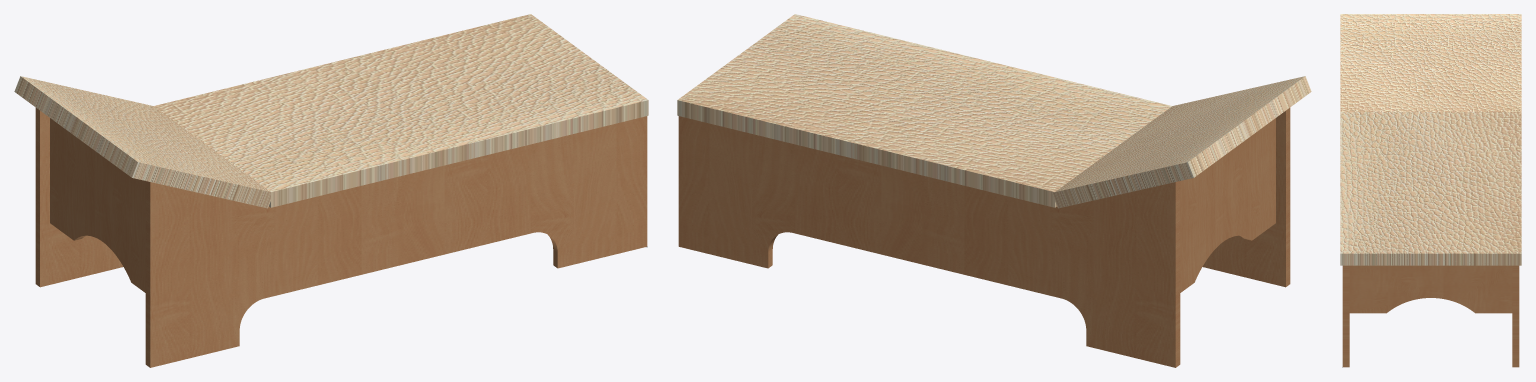
The model's file is banketka_ot_nabora_ajbolit_2.glb.
3 renders of one model, left to right at view 1: azimuth 30°, elevation 25°; view 2: azimuth 150°, elevation 25°; view 3: azimuth 270°, elevation 25°, orthographic. The views are drawn at different scales.
Visible parts, largest first — view 1: Shape_IndexedFaceSet.004, Shape_IndexedFaceSet.001_NON, Shape_IndexedFaceSet_NON, Shape_IndexedFaceSet.002, Shape_IndexedFaceSet.005; view 2: Shape_IndexedFaceSet.005, Shape_IndexedFaceSet.001_NON, Shape_IndexedFaceSet_NON, Shape_IndexedFaceSet.002, Shape_IndexedFaceSet.004; view 3: Shape_IndexedFaceSet.001_NON, Shape_IndexedFaceSet_NON, Shape_IndexedFaceSet.003, Shape_IndexedFaceSet.004, Shape_IndexedFaceSet.005.
Boxes of the visible parts, left/top/right/bottom form: Shape_IndexedFaceSet.004: left=145, top=116, right=647, bottom=367; Shape_IndexedFaceSet.001_NON: left=154, top=14, right=648, bottom=207; Shape_IndexedFaceSet_NON: left=14, top=76, right=270, bottom=208; Shape_IndexedFaceSet.002: left=50, top=118, right=145, bottom=292; Shape_IndexedFaceSet.005: left=35, top=108, right=123, bottom=287; Shape_IndexedFaceSet.005: left=678, top=116, right=1180, bottom=367; Shape_IndexedFaceSet.001_NON: left=677, top=14, right=1171, bottom=207; Shape_IndexedFaceSet_NON: left=1052, top=76, right=1311, bottom=208; Shape_IndexedFaceSet.002: left=1180, top=118, right=1275, bottom=292; Shape_IndexedFaceSet.004: left=1202, top=108, right=1290, bottom=287; Shape_IndexedFaceSet.001_NON: left=1340, top=112, right=1521, bottom=265; Shape_IndexedFaceSet_NON: left=1340, top=14, right=1521, bottom=111; Shape_IndexedFaceSet.003: left=1349, top=265, right=1512, bottom=313; Shape_IndexedFaceSet.004: left=1342, top=265, right=1349, bottom=367; Shape_IndexedFaceSet.005: left=1512, top=265, right=1519, bottom=367.
Bounding box in the file's own units: 1041 × 405 × 410.
Materials: 7 (6 with a texture image).
